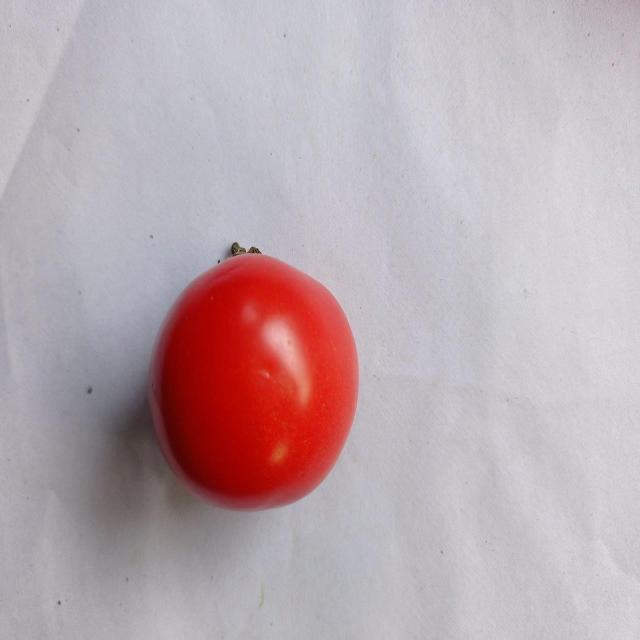Tomato: (148, 237, 360, 514)
